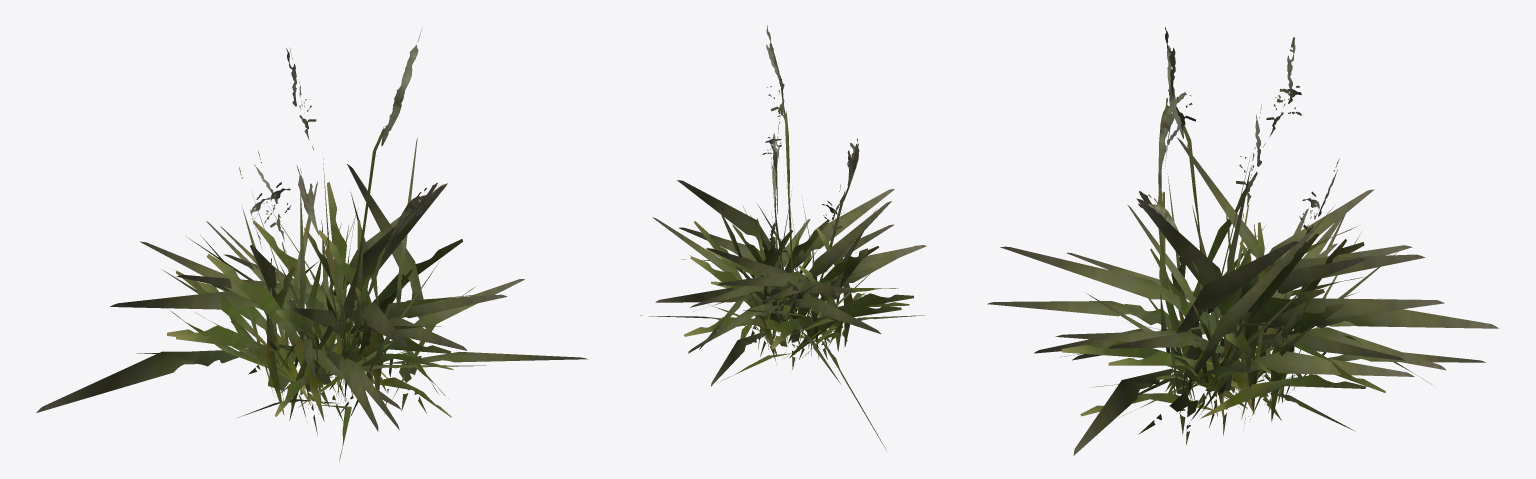
The picture shows the model from 3 angles, left to right: view 1: azimuth 30°, elevation 25°; view 2: azimuth 150°, elevation 25°; view 3: azimuth 270°, elevation 25°; orthographic projection. The views are drawn at different scales.
Parts seen in each view (by area): view 1: grass_medium_01__c_lod1; view 2: grass_medium_01__c_lod1; view 3: grass_medium_01__c_lod1.
Boxes of the visible parts, x1,y1,x2,y2 form: grass_medium_01__c_lod1: (36, 30, 587, 461); grass_medium_01__c_lod1: (640, 25, 926, 448); grass_medium_01__c_lod1: (987, 27, 1498, 455).
Bounding box in the file's own units: 0.2357 × 0.2241 × 0.2431.
Materials: 1 (1 with a texture image).
